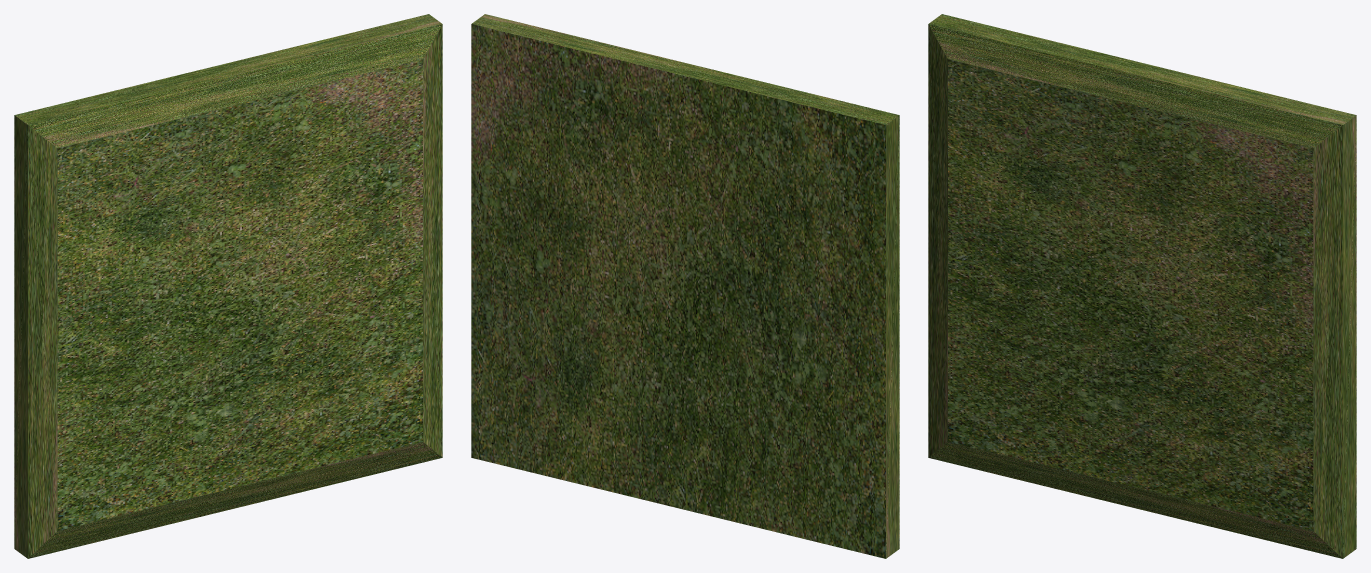
Rendered from groundTile1.obj.
3 views of the same model, side by side, from view 1: azimuth 30°, elevation 25°; view 2: azimuth 150°, elevation 25°; view 3: azimuth 330°, elevation 25° (orthographic).
Parts seen in each view (by area): view 1: Cube; view 2: Cube; view 3: Cube.
Boxes of the visible parts, x1,y1,x2,y2 form: Cube: (14, 14, 442, 558); Cube: (471, 14, 899, 558); Cube: (928, 14, 1356, 558).
Bounding box in the file's own units: 1 × 1 × 0.0779.
1 material, 1 textured.
